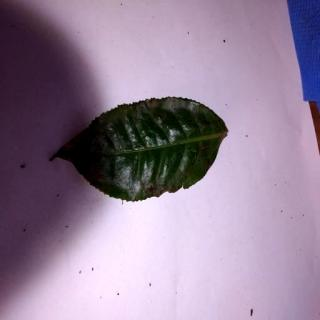Bird Eye Spot: (54, 96, 229, 203)
